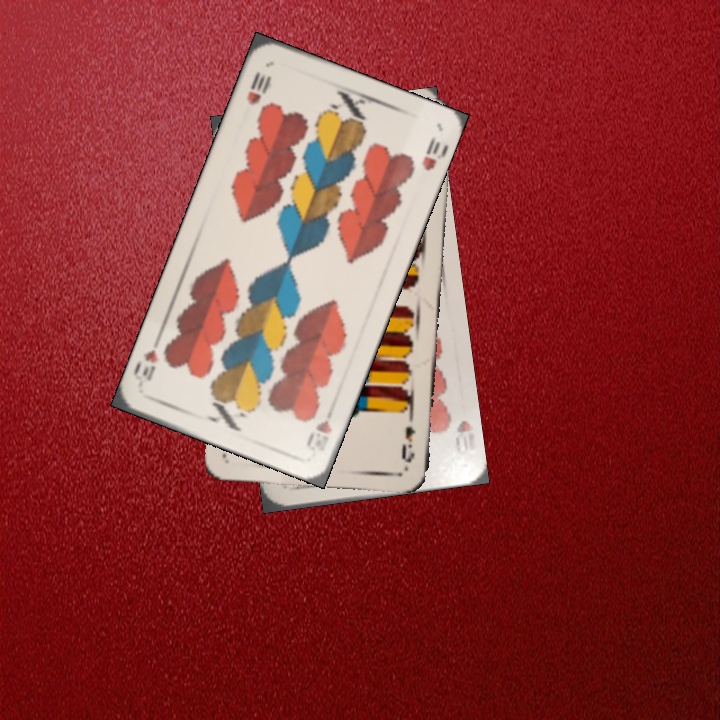E9: (397, 409, 418, 465)
H10: (242, 67, 274, 108), (302, 416, 335, 449), (451, 416, 476, 458)
